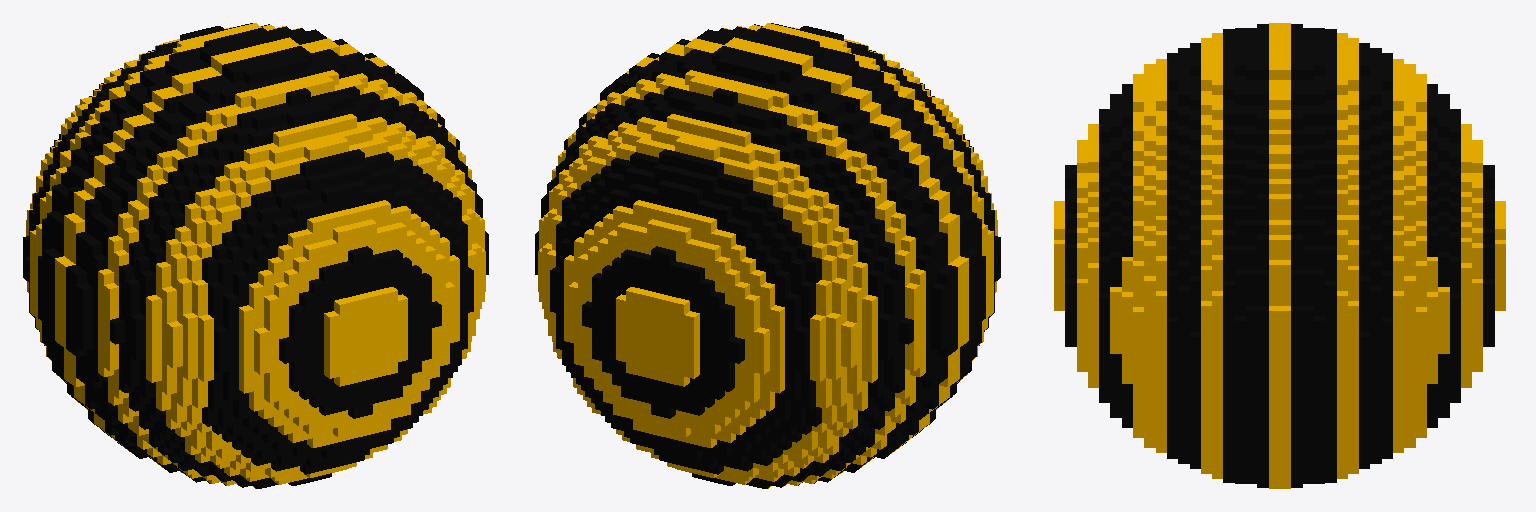
The picture shows the model from 3 angles: view 1: azimuth 30°, elevation 25°; view 2: azimuth 150°, elevation 25°; view 3: azimuth 270°, elevation 25°; orthographic projection.
Parts seen in each view (by area): view 1: object 1; view 2: object 1; view 3: object 1.
Part boxes in pixels (x1,y1,x2,y2): object 1: (23, 23, 488, 488); object 1: (535, 23, 1000, 488); object 1: (1054, 23, 1505, 488).
Size of the model in its own units: 4 by 4 by 4.
Materials: 1 (1 with a texture image).